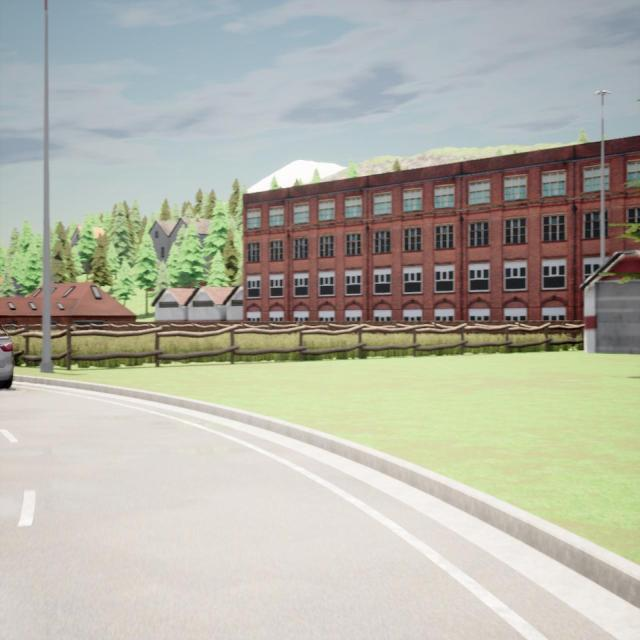Vehicle: (0, 323, 13, 388)
